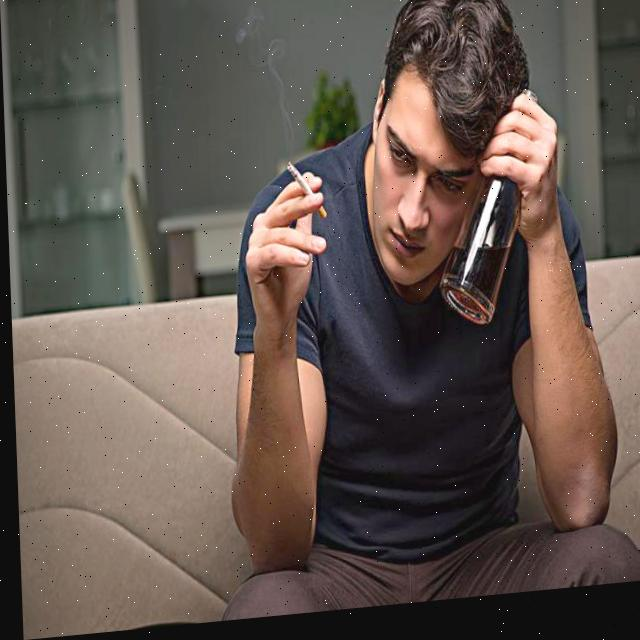cigarette: (284, 167, 325, 228)
